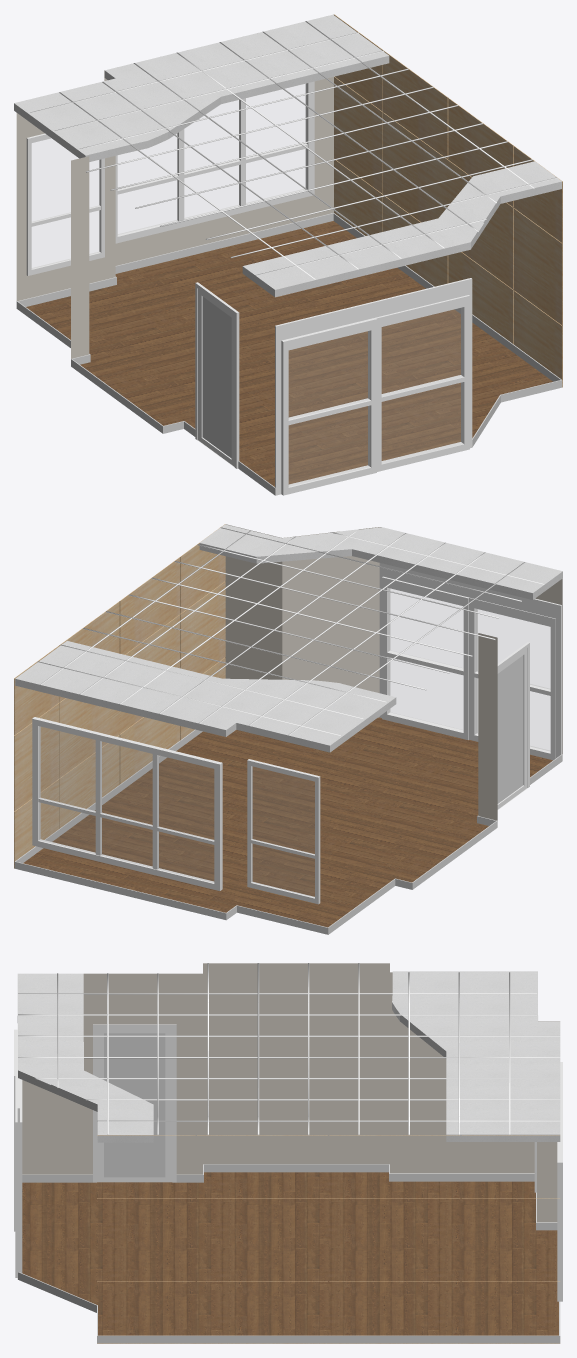
File: hospital-room.glb
3 renders of one model, top to bottom at view 1: azimuth 30°, elevation 25°; view 2: azimuth 150°, elevation 25°; view 3: azimuth 270°, elevation 25°, orthographic. The views are drawn at different scales.
Visible parts, largest first — view 1: floor, ceiling, left_wall, DoubleDoor, WindowBig, front_wall, ceiling_strips, Window Small, Door1, Baseboard, right_wall; view 2: floor, ceiling, left_wall, WindowBig, DoubleDoor, back_wall, Window Small, ceiling_strips, Baseboard, Door1, right_wall; view 3: floor, right_wall, ceiling, Door1, ceiling_strips, Baseboard, DoubleDoor, left_wall, front_wall, WindowBig.
Boxes of the visible parts, left/top/right/bottom form: floor: left=26, top=221, right=552, bottom=486; ceiling: left=14, top=14, right=561, bottom=297; left_wall: left=334, top=14, right=562, bottom=387; DoubleDoor: left=275, top=278, right=472, bottom=495; WindowBig: left=115, top=81, right=314, bottom=243; front_wall: left=16, top=14, right=333, bottom=300; ceiling_strips: left=30, top=21, right=556, bottom=279; Window Small: left=26, top=133, right=104, bottom=275; Door1: left=195, top=282, right=239, bottom=468; Baseboard: left=16, top=213, right=562, bottom=495; right_wall: left=71, top=156, right=89, bottom=358; floor: left=23, top=717, right=552, bottom=927; ceiling: left=15, top=524, right=562, bottom=752; left_wall: left=14, top=524, right=225, bottom=868; WindowBig: left=32, top=717, right=222, bottom=890; DoubleDoor: left=379, top=563, right=561, bottom=760; back_wall: left=225, top=524, right=562, bottom=754; Window Small: left=247, top=759, right=320, bottom=904; ceiling_strips: left=37, top=527, right=544, bottom=735; Baseboard: left=14, top=716, right=562, bottom=934; Door1: left=497, top=642, right=529, bottom=809; right_wall: left=478, top=633, right=497, bottom=820; floor: left=22, top=1172, right=558, bottom=1335; right_wall: left=22, top=963, right=534, bottom=1174; ceiling: left=17, top=971, right=560, bottom=1142; Door1: left=93, top=1024, right=176, bottom=1182; ceiling_strips: left=18, top=963, right=560, bottom=1135; Baseboard: left=18, top=1164, right=560, bottom=1343; DoubleDoor: left=14, top=1023, right=22, bottom=1279; left_wall: left=97, top=1135, right=559, bottom=1343; front_wall: left=537, top=1021, right=559, bottom=1222; WindowBig: left=557, top=1062, right=562, bottom=1301.
Size of the model in its own units: 5.83 by 3.3 by 7.87.
7 materials, 3 textured.
